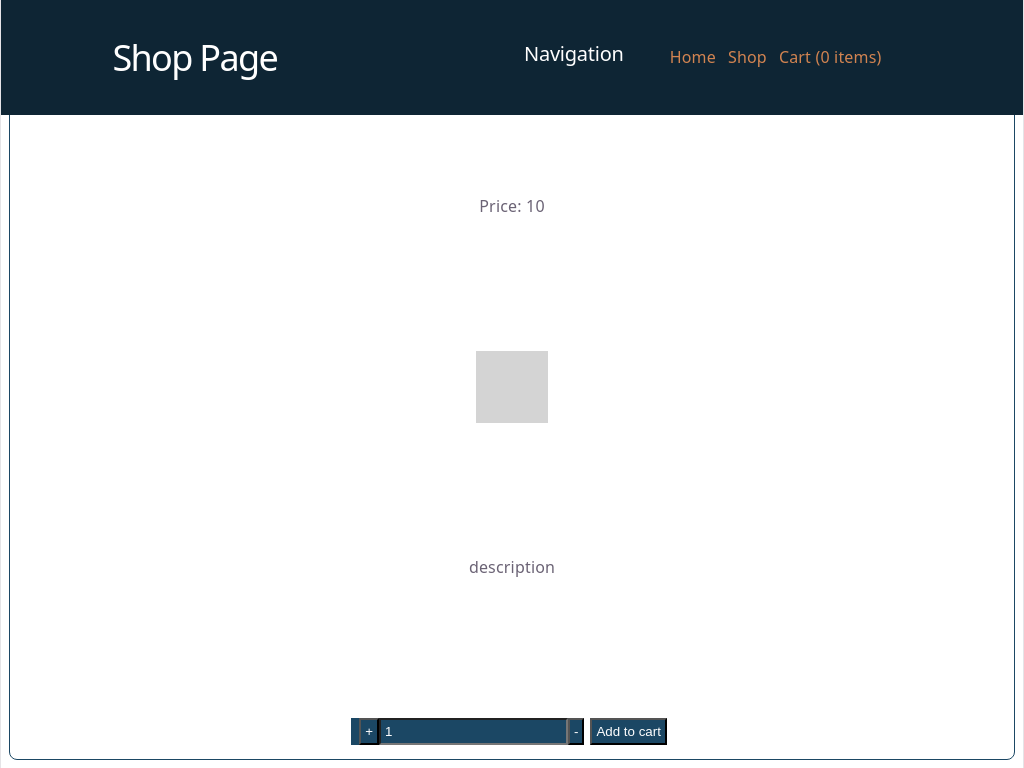
it: ShopPage component › adds to cart
(page scrolled)
Click the button "Add to cart": (629, 732) [590,718,667,745]
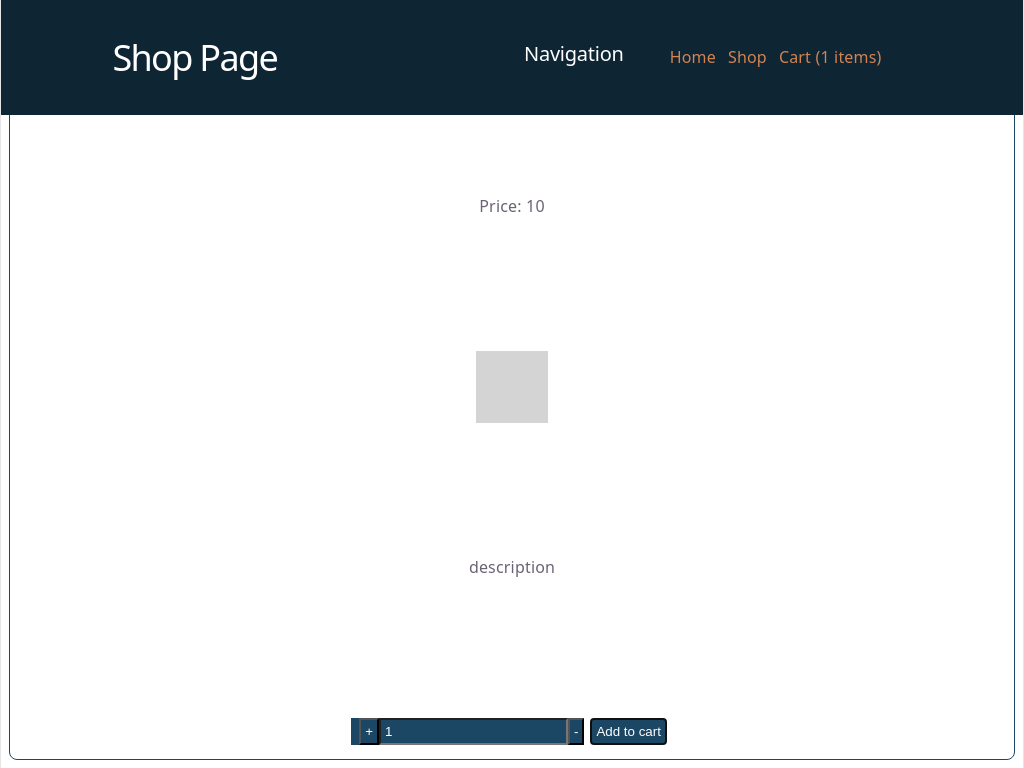
Expected: the link "Cart (1 items)" is shown, [779,46,882,68]
